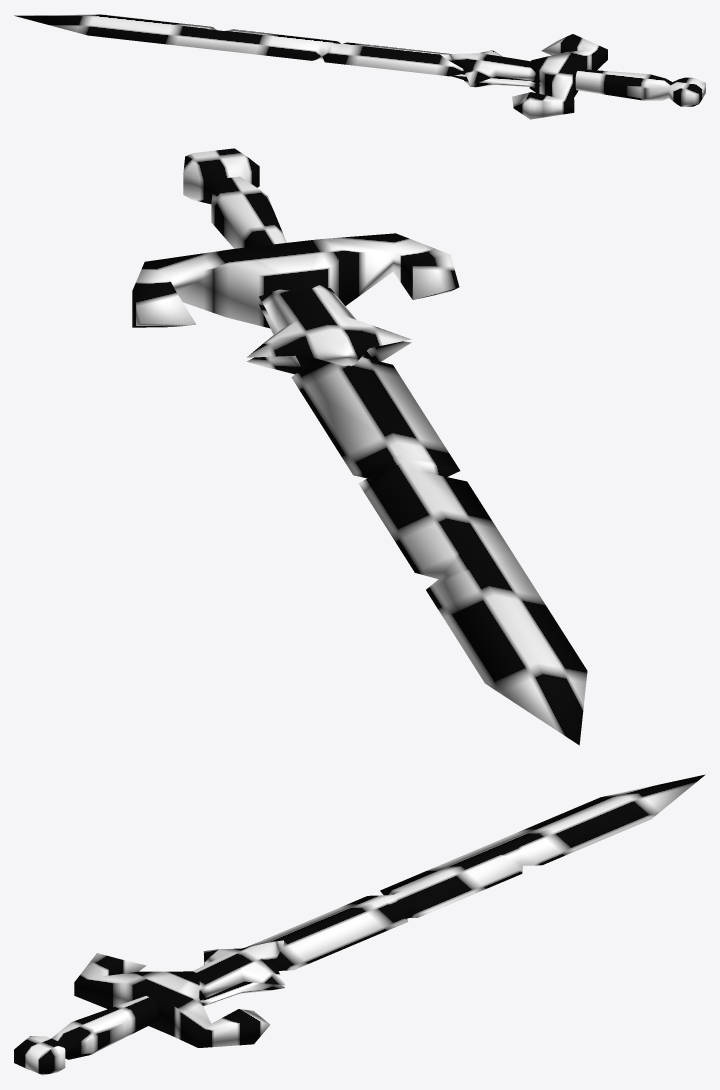
The model's file is initqu72.dae.
3 renders of one model, top to bottom at view 1: azimuth 30°, elevation 25°; view 2: azimuth 150°, elevation 25°; view 3: azimuth 270°, elevation 25°, orthographic. The views are drawn at different scales.
Parts seen in each view (by area): view 1: item; view 2: item; view 3: item.
Boxes of the visible parts, <box> form: item: <box>14,14,705,119</box>; item: <box>132,148,587,745</box>; item: <box>14,774,705,1075</box>.
Bounding box in the file's own units: 1.86 × 1.86 × 0.1009.
1 material, 1 textured.
